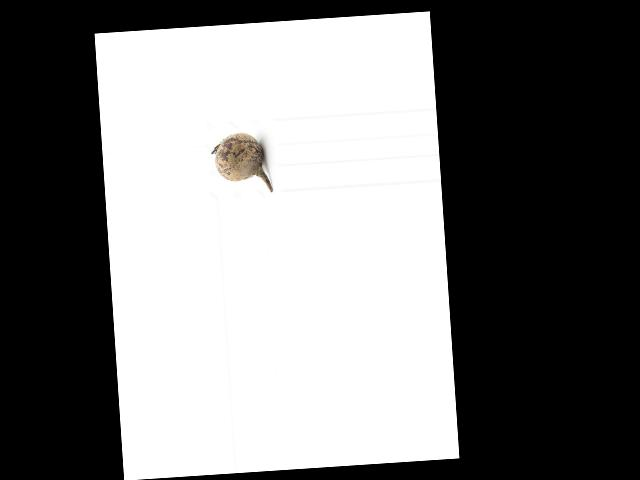beet: (210, 130, 272, 195)
